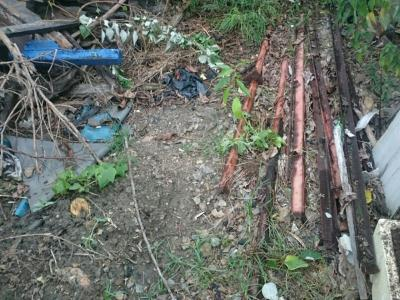plastic_bag: (154, 62, 216, 103)
